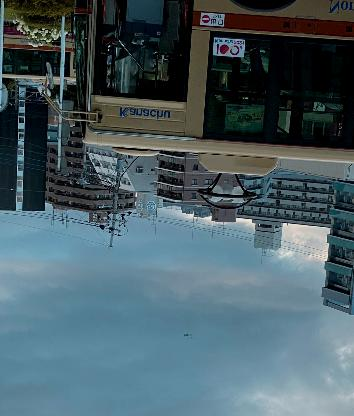Tornado: (184, 333, 192, 339)
